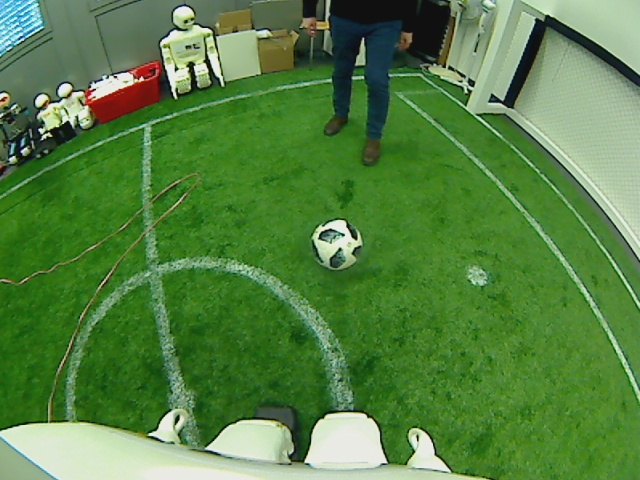ball: (309, 216, 361, 270)
